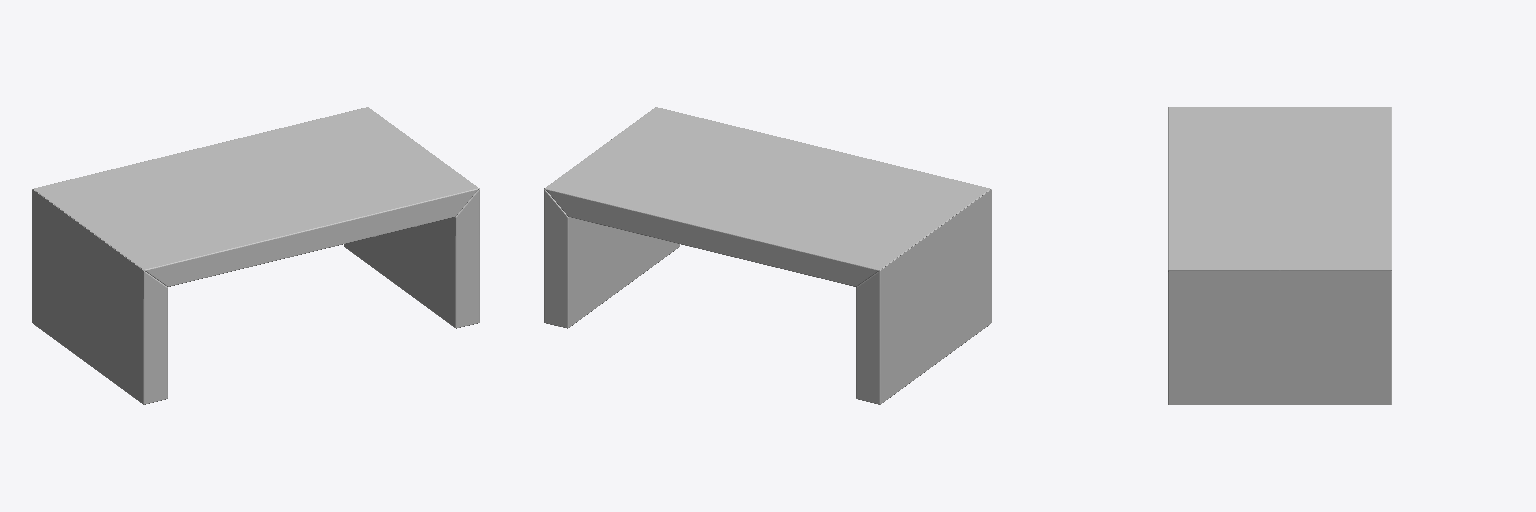
The model's file is WoodCoffeeTable.obj.
3 views of the same model, side by side, from view 1: azimuth 30°, elevation 25°; view 2: azimuth 150°, elevation 25°; view 3: azimuth 270°, elevation 25° (orthographic).
Parts seen in each view (by area): view 1: 996_EmmersonReclaimedWoodCoffeeTable; view 2: 996_EmmersonReclaimedWoodCoffeeTable; view 3: 996_EmmersonReclaimedWoodCoffeeTable.
Boxes of the visible parts, <box> form: 996_EmmersonReclaimedWoodCoffeeTable: <box>32,107,479,404</box>; 996_EmmersonReclaimedWoodCoffeeTable: <box>544,107,991,404</box>; 996_EmmersonReclaimedWoodCoffeeTable: <box>1168,107,1391,404</box>.
Size of the model in its own units: 1058 by 406 by 610.